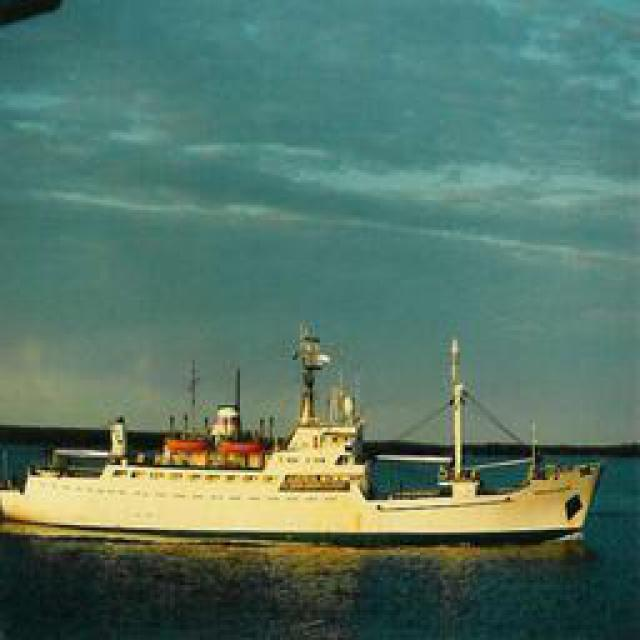Ship: (1, 347, 624, 545)
